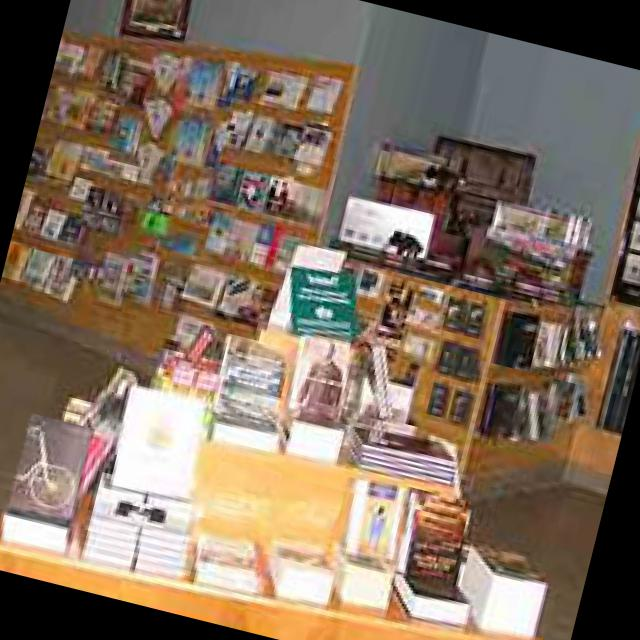book case: (292, 341, 367, 435), (295, 265, 355, 339), (498, 308, 543, 365), (82, 186, 128, 231), (485, 382, 523, 436), (184, 263, 226, 305), (99, 252, 132, 304), (296, 121, 334, 165), (192, 58, 226, 104), (413, 283, 446, 328), (238, 168, 272, 211), (113, 116, 145, 153), (464, 299, 494, 337), (250, 111, 280, 148), (458, 346, 485, 380), (429, 379, 453, 416), (40, 209, 68, 238)
book stand: (0, 386, 543, 640)
bookcase crop: (3, 25, 358, 397), (296, 241, 606, 504)
books crop: (10, 411, 96, 521), (457, 541, 549, 640), (346, 427, 457, 505), (394, 484, 470, 578), (214, 338, 287, 427), (133, 491, 198, 581), (83, 483, 148, 572), (398, 570, 474, 625), (327, 548, 396, 607), (1, 508, 78, 558), (367, 344, 397, 418), (281, 72, 309, 110)
floor -X: (0, 292, 608, 640)
picture crop: (122, 0, 194, 39)
wall clock: (2, 0, 368, 396), (411, 33, 640, 477), (283, 3, 492, 412)
